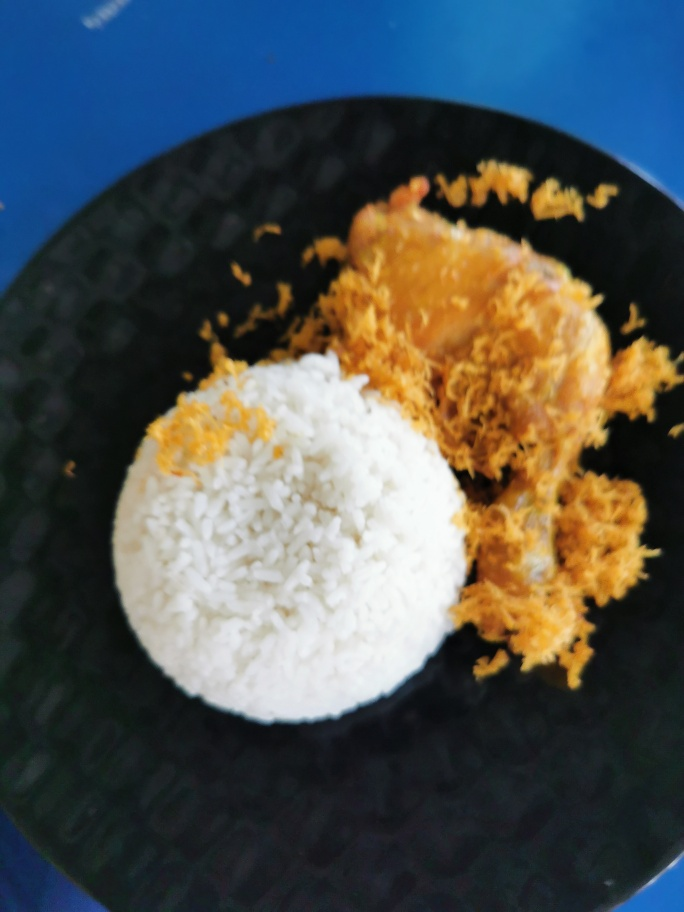ayam goreng: (331, 180, 646, 702)
nasi putih: (115, 340, 468, 730)
